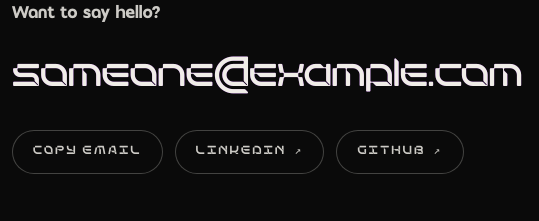
Test case: ContactDetails › copies the address and announces it
Click the button "Copy email".
click(87, 152)  # box [12,130,163,174]
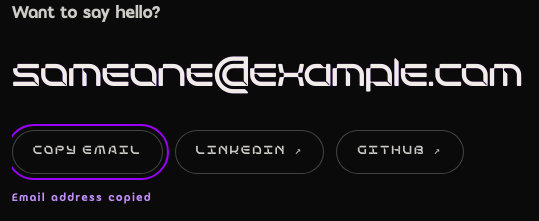
Result: the message reads "Email address copied" at [12,193,152,203]
